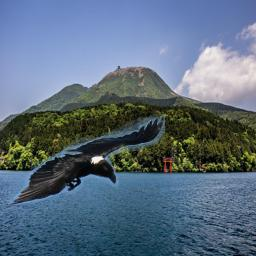Crow: (8, 114, 165, 205)
